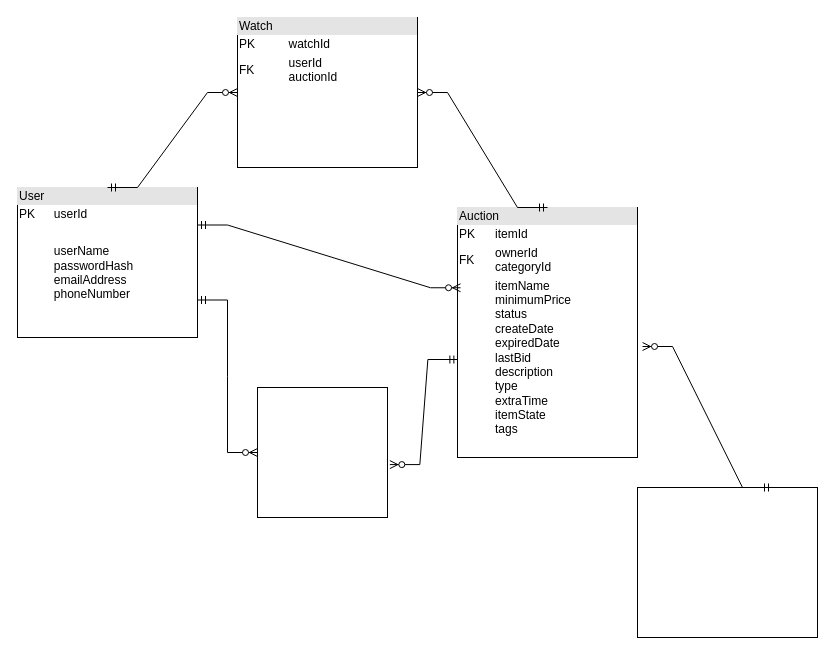
The diagram is 835 pixels wide and 655 high, and some of its shapes have lost their labels. Here are the shapes that lost their labels. From the top down, the centre of each, then its label:
point 322,452: Bid PK bidId FK itemId userId value timeStamp isWinning minStep
point 727,562: Category PK categoryId categoryName
